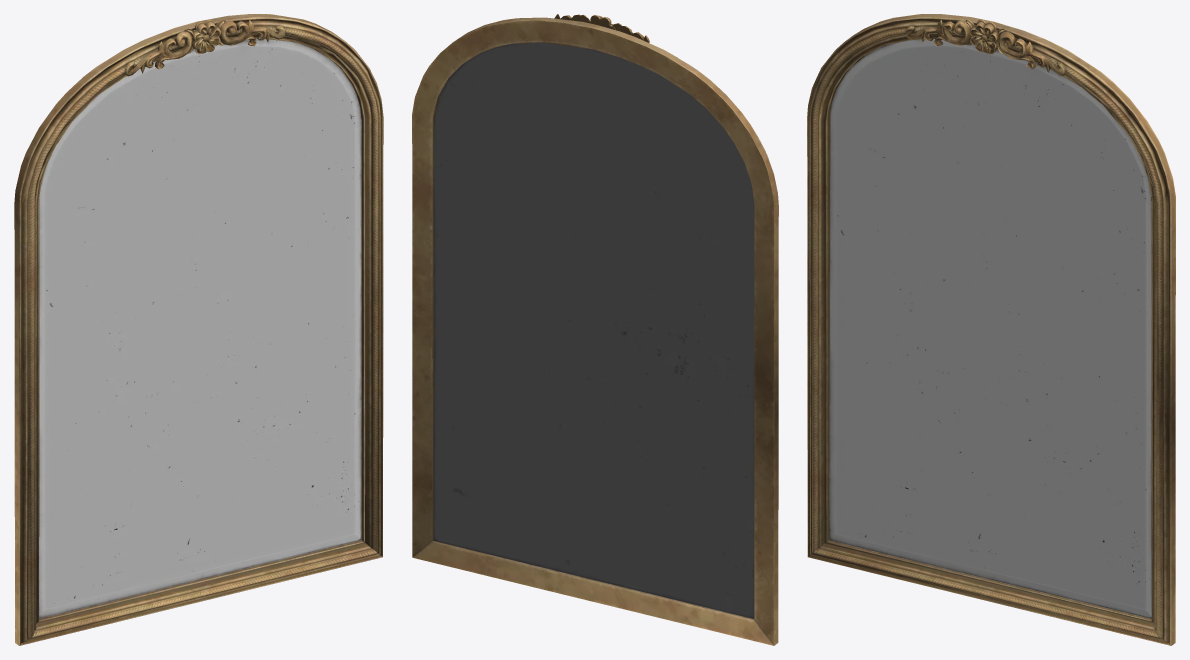
Rendered from ornate_mirror_01.glb.
3 renders of one model, left to right at view 1: azimuth 30°, elevation 25°; view 2: azimuth 150°, elevation 25°; view 3: azimuth 330°, elevation 25°, orthographic.
Visible parts, largest first — view 1: ornate_mirror_01; view 2: ornate_mirror_01; view 3: ornate_mirror_01.
Boxes of the visible parts, x1,y1,x2,y2 form: ornate_mirror_01: [14, 14, 383, 645]; ornate_mirror_01: [412, 14, 778, 645]; ornate_mirror_01: [807, 14, 1175, 645].
Size of the model in its own units: 0.4865 by 0.7437 by 0.026.
1 material, 1 textured.
